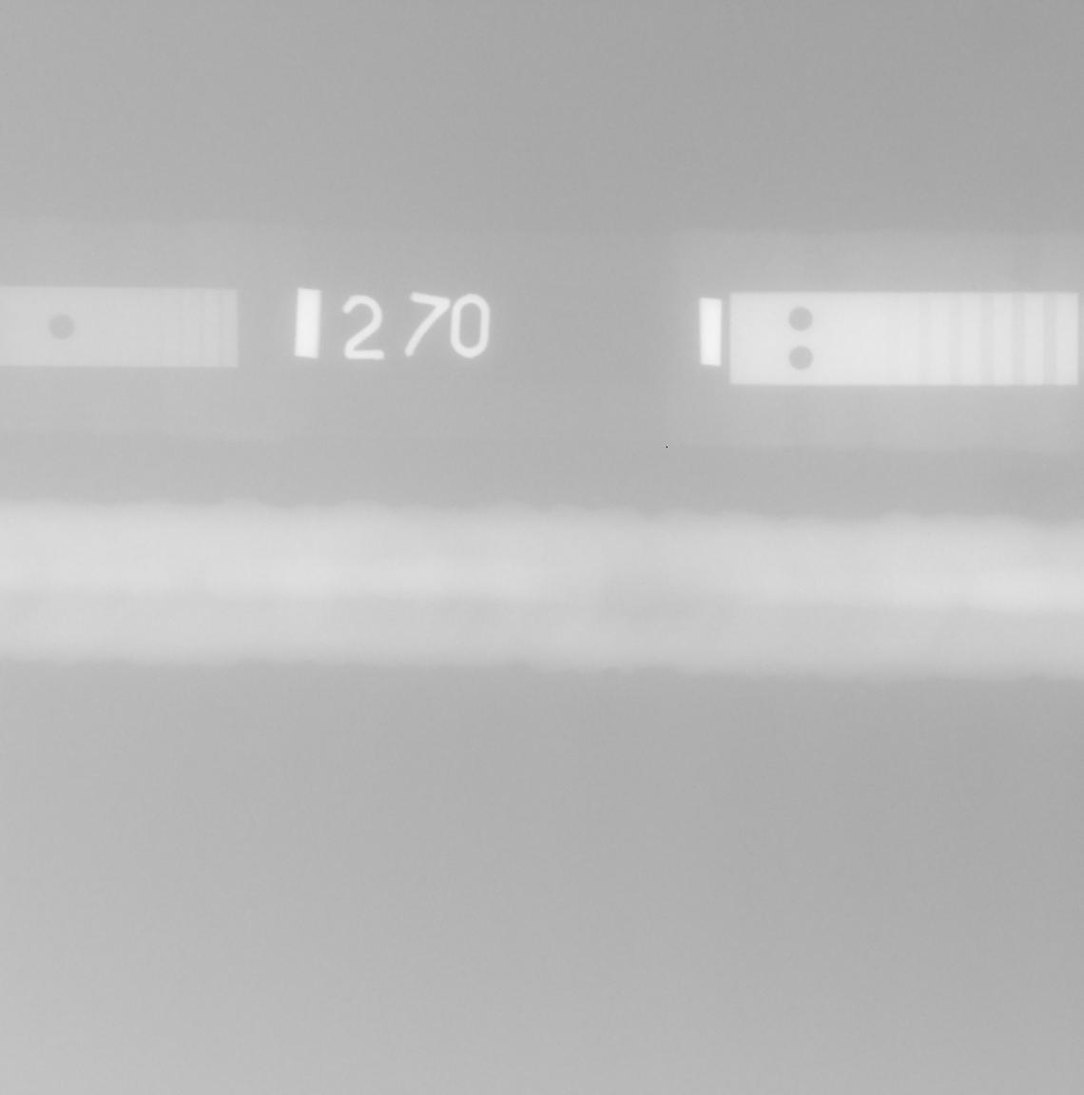Reference Standard 2: (729, 291, 1080, 386)
